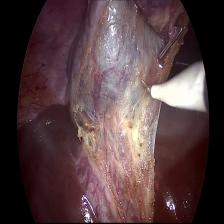Hook: (140, 62, 209, 117)
